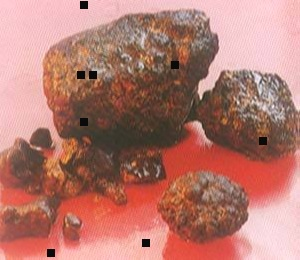halobolite: (41, 3, 219, 147), (205, 68, 300, 161), (160, 168, 248, 239), (53, 138, 126, 204), (1, 138, 58, 200), (1, 196, 60, 244), (121, 149, 170, 184), (61, 208, 91, 245)
